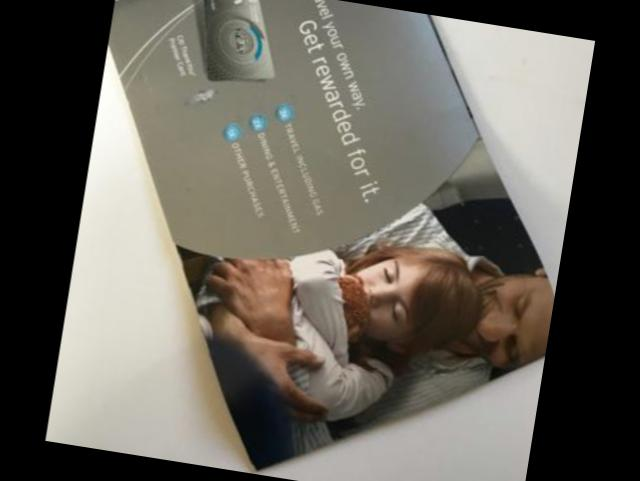cardboard paper: (108, 0, 555, 470)
